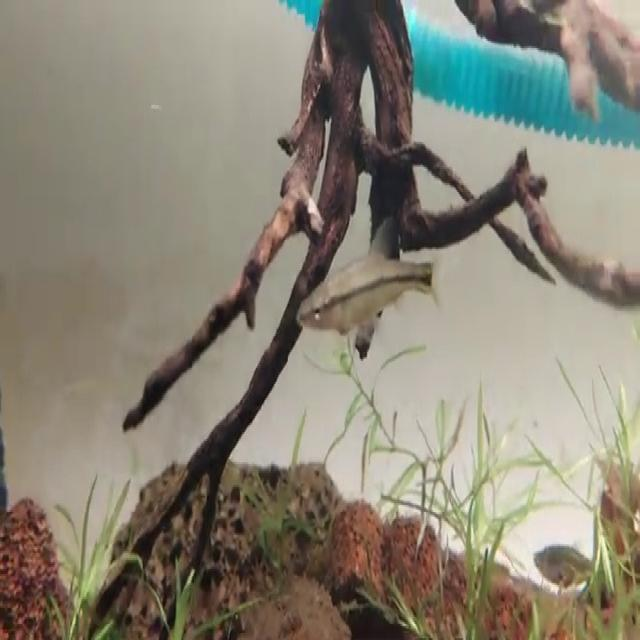Cakil Baligi: (290, 219, 466, 337)
